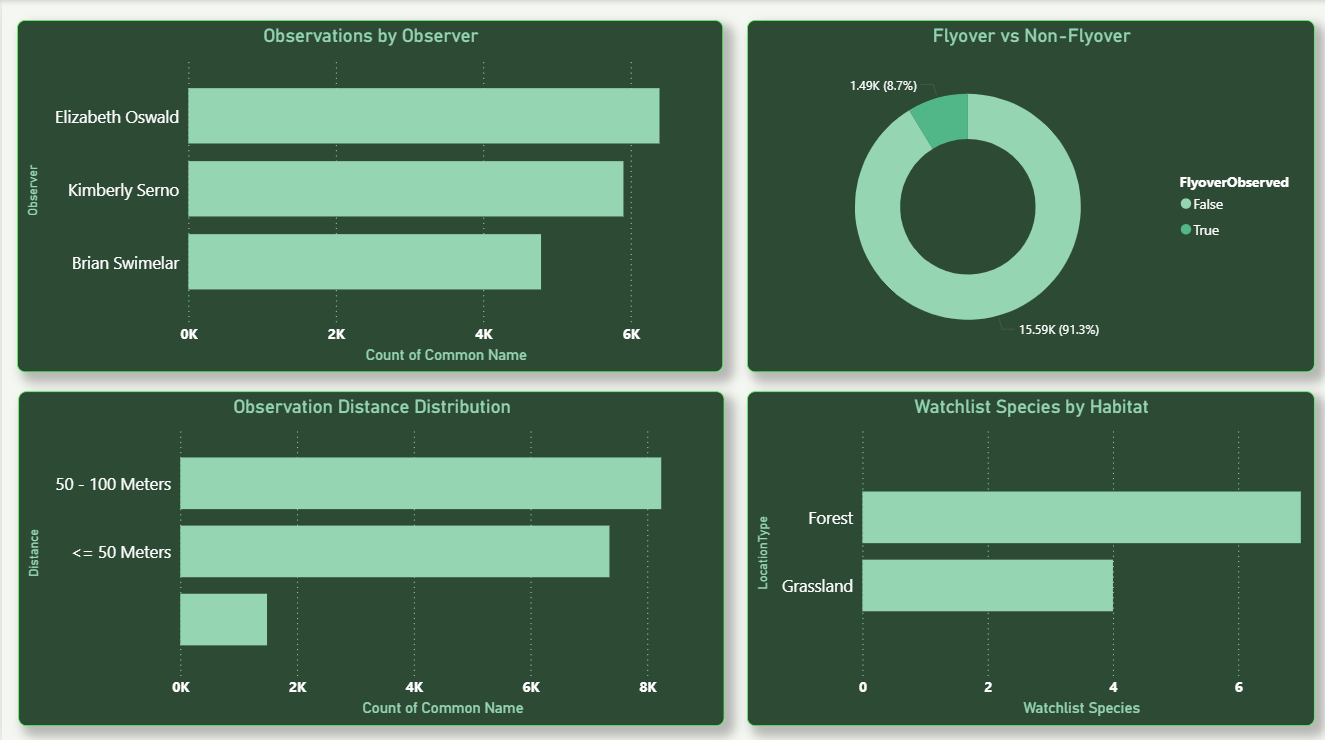

What the dashboard file says about the page in this screenshot:
{"tool":"powerbi","page":{"name":"Conservation & Observer","canvas":[1280,720],"ordinal":3},"visuals":[{"type":"clusteredBarChart","title":"Observations by Observer","fields":{"Y":["CountNonNull(bird_combined_clean.Common_Name)"],"Category":["bird_combined_clean.Observer"]},"box":[14.5,19.3,681.6,340.2],"z":0},{"type":"donutChart","title":"Flyover vs Non-Flyover","fields":{"Y":["CountNonNull(bird_combined_clean.Common_Name)"],"Category":["bird_combined_clean.Flyover_Observed"]},"box":[719,19.3,547.7,340.2],"z":1000},{"type":"clusteredBarChart","title":"Observation Distance Distribution","fields":{"Y":["CountNonNull(bird_combined_clean.Common_Name)"],"Category":["bird_combined_clean.Distance"]},"box":[15.7,377.6,681.6,323.3],"z":2000},{"type":"clusteredBarChart","title":"Watchlist Species by Habitat","fields":{"Category":["bird_combined_clean.Location_Type"],"Y":["bird_combined_clean.Watchlist Species"]},"box":[719,377.6,547.7,323.3],"z":3000}]}

Visuals, with their boxes in screenshot pixels (x1, y1, x2, y2), scaled from the page's 1280x720 canvas onto the 1325x740 screenshot:
"Observations by Observer" clusteredBarChart: bbox(15, 20, 721, 369)
"Flyover vs Non-Flyover" donutChart: bbox(744, 20, 1311, 369)
"Observation Distance Distribution" clusteredBarChart: bbox(16, 388, 722, 720)
"Watchlist Species by Habitat" clusteredBarChart: bbox(744, 388, 1311, 720)
